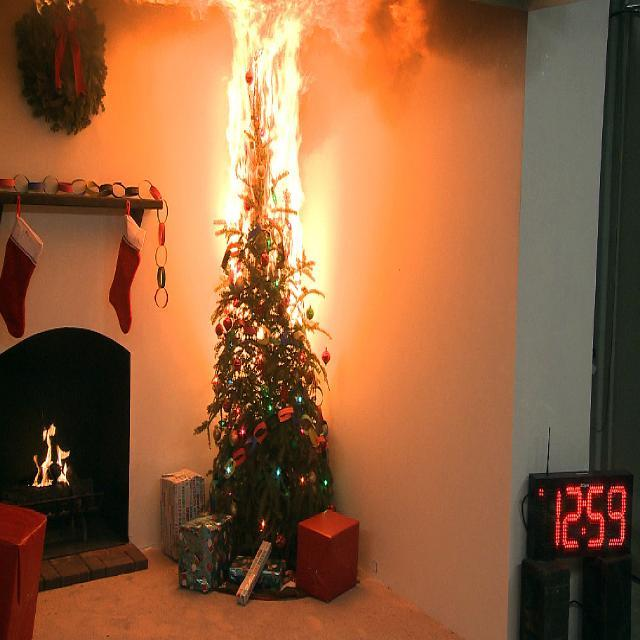Fire: (227, 23, 304, 224)
